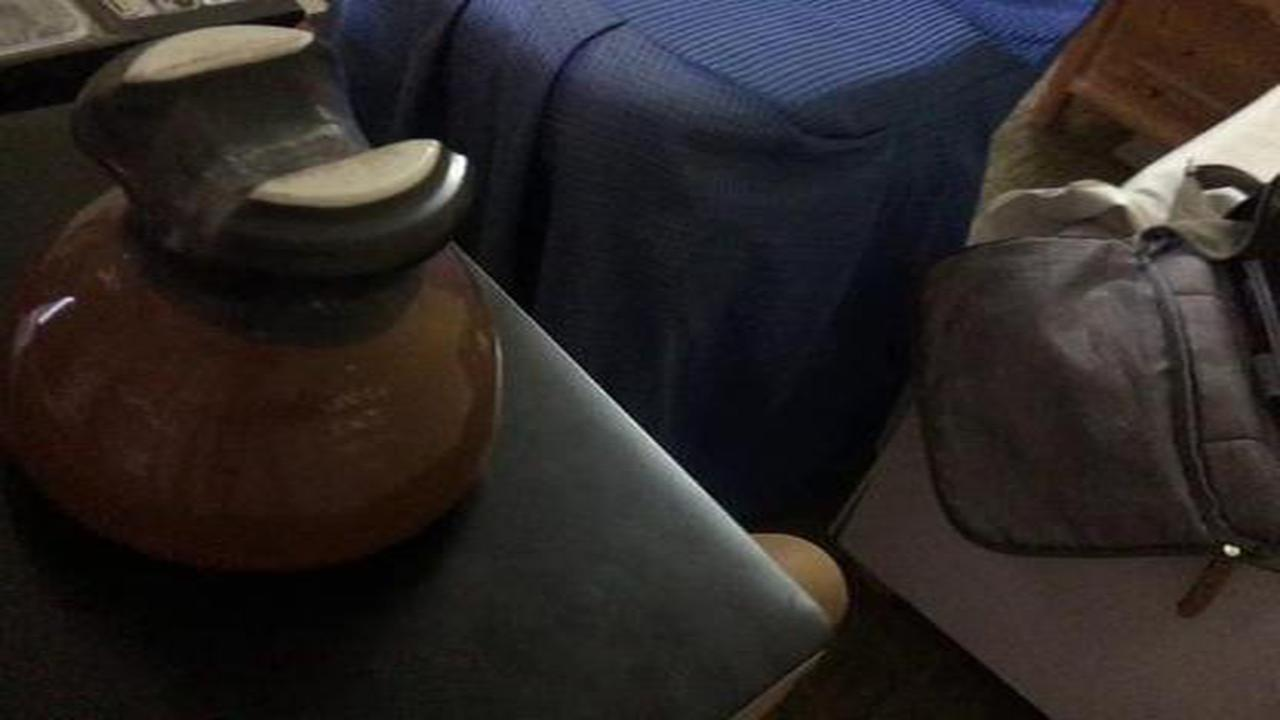insulator_pin: (1, 20, 570, 589)
